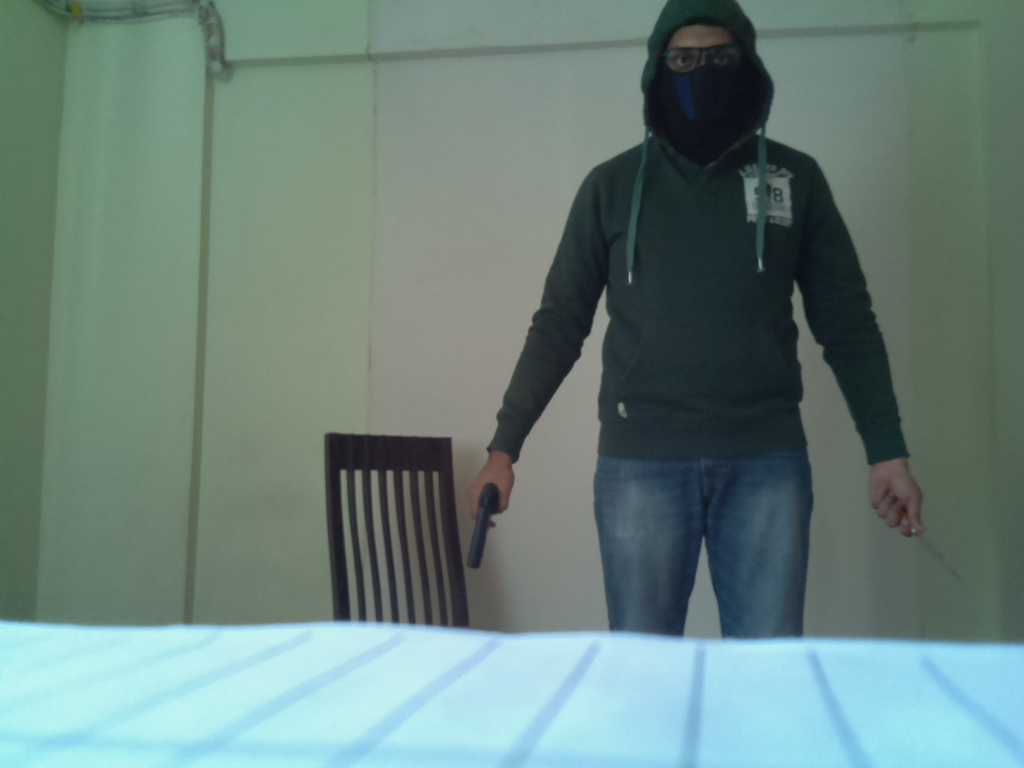gun: (464, 482, 511, 577)
